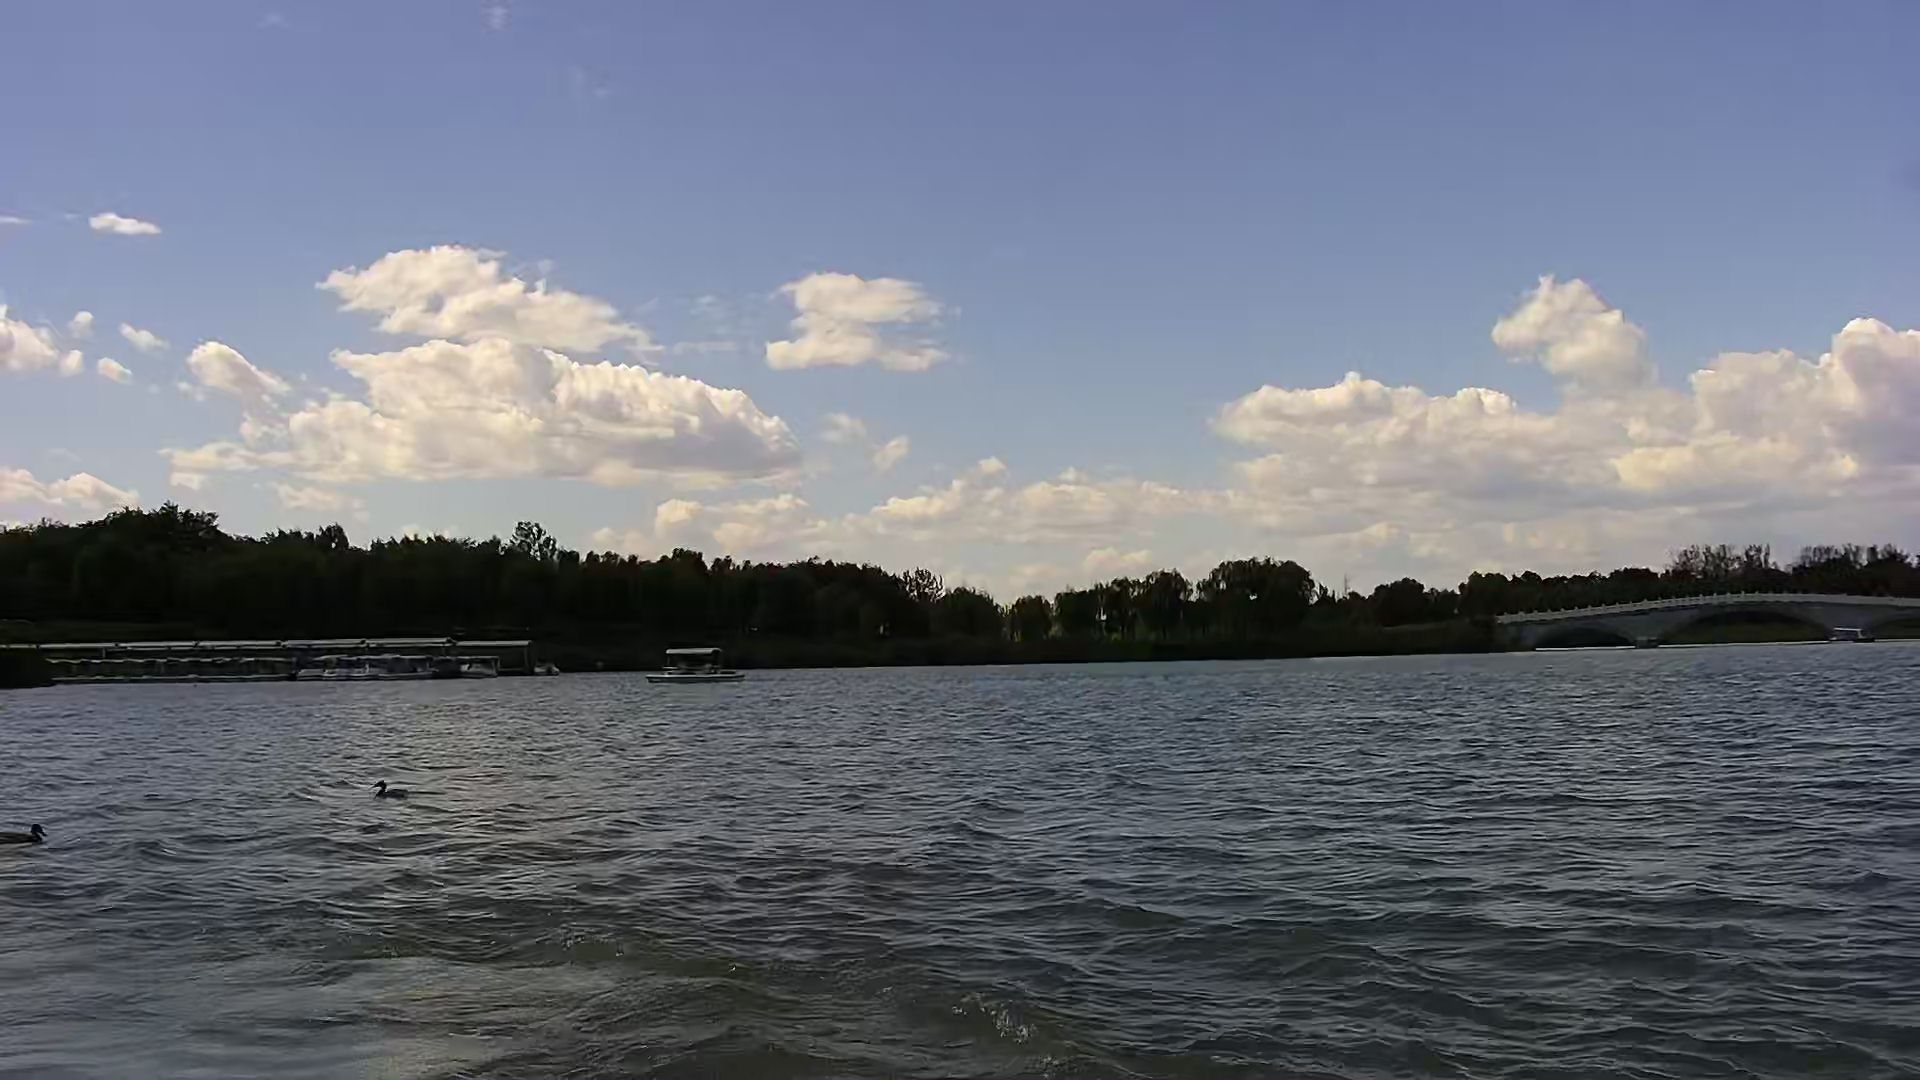animal: (1, 816, 53, 855), (367, 773, 421, 808)
boat: (644, 646, 752, 688)
bridge: (1491, 589, 1920, 655)
harbor: (1, 640, 562, 688)
